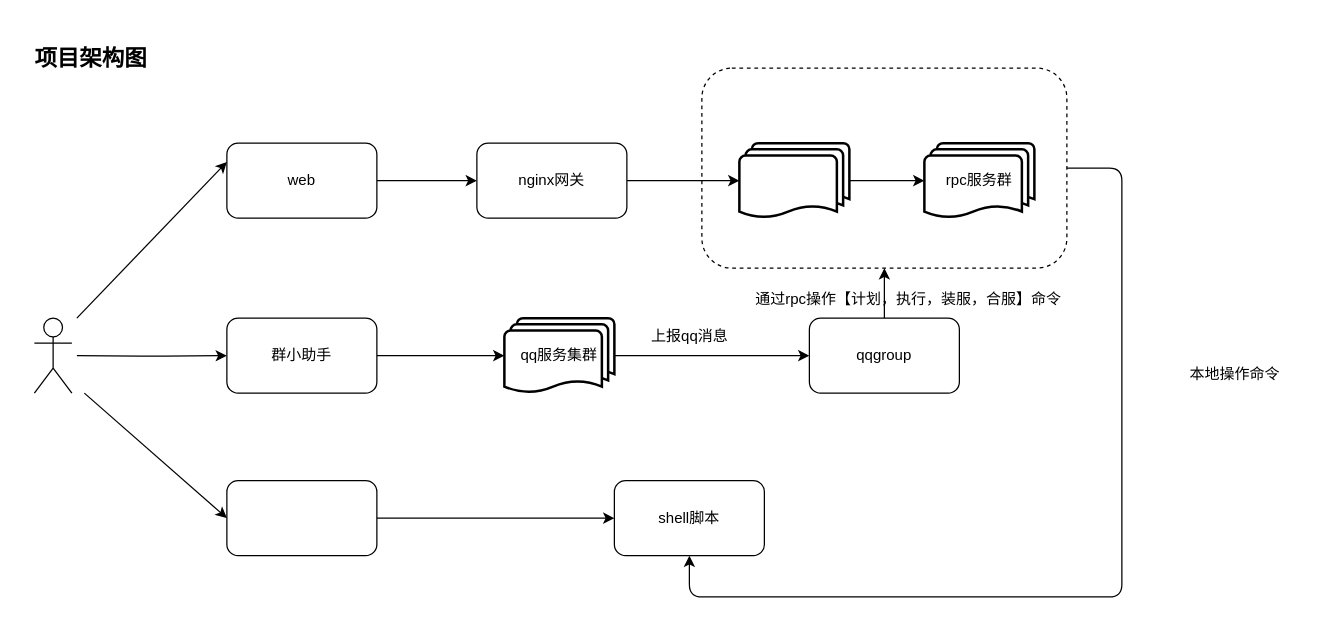
Some shapes in this 1318 by 629 pixel diagram are drawn without their labels. Here are the shapes that lost their labels. From the top down, the centre of each, then its label:
At (794,180): "api服务群".
At (52,355): "Actor".
At (301,517): "终端".
